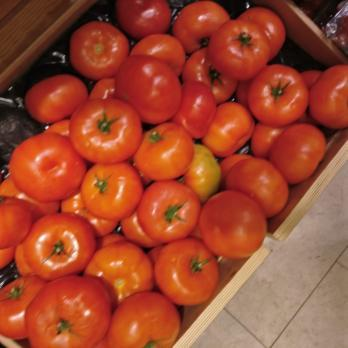Tomato: (29, 65, 259, 252), (102, 4, 285, 176), (0, 187, 179, 348)
